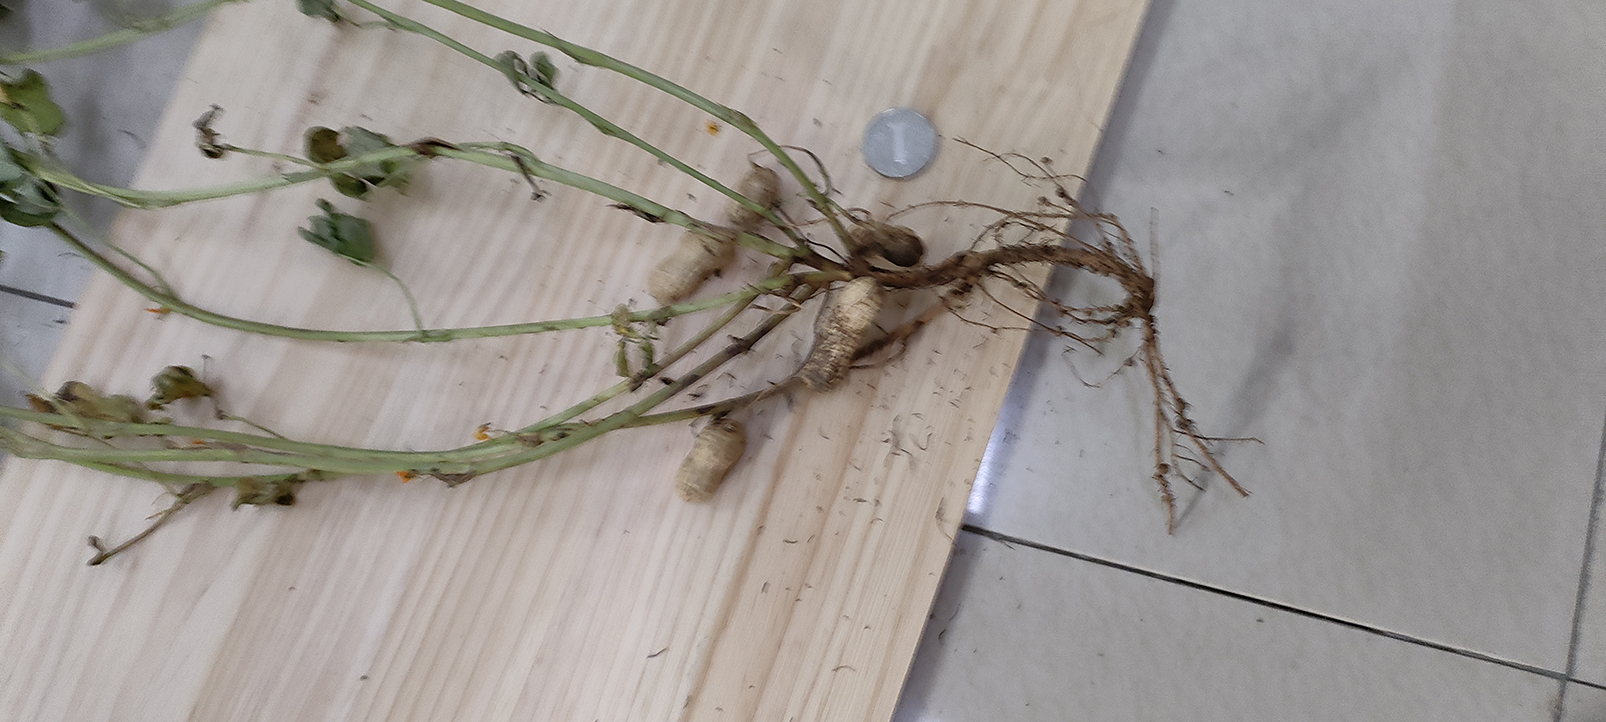h: (801, 277, 883, 396), (648, 229, 734, 302), (676, 420, 742, 505), (727, 167, 778, 224)
l: (851, 223, 925, 266)
